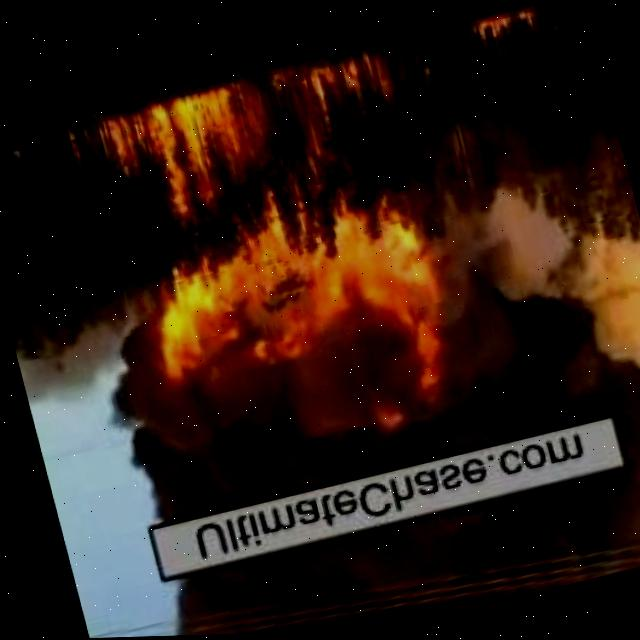Fire: (96, 50, 453, 406), (465, 7, 546, 50)
Smoke: (104, 271, 640, 532), (136, 455, 640, 637)
